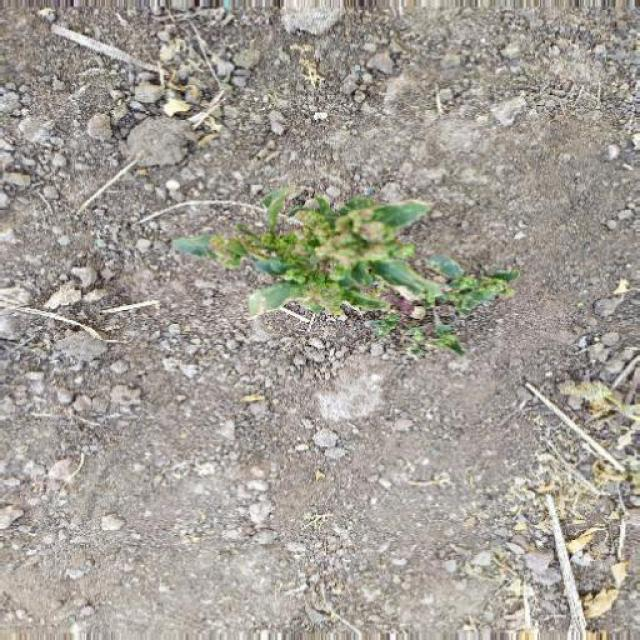weed: (223, 182, 522, 392)
